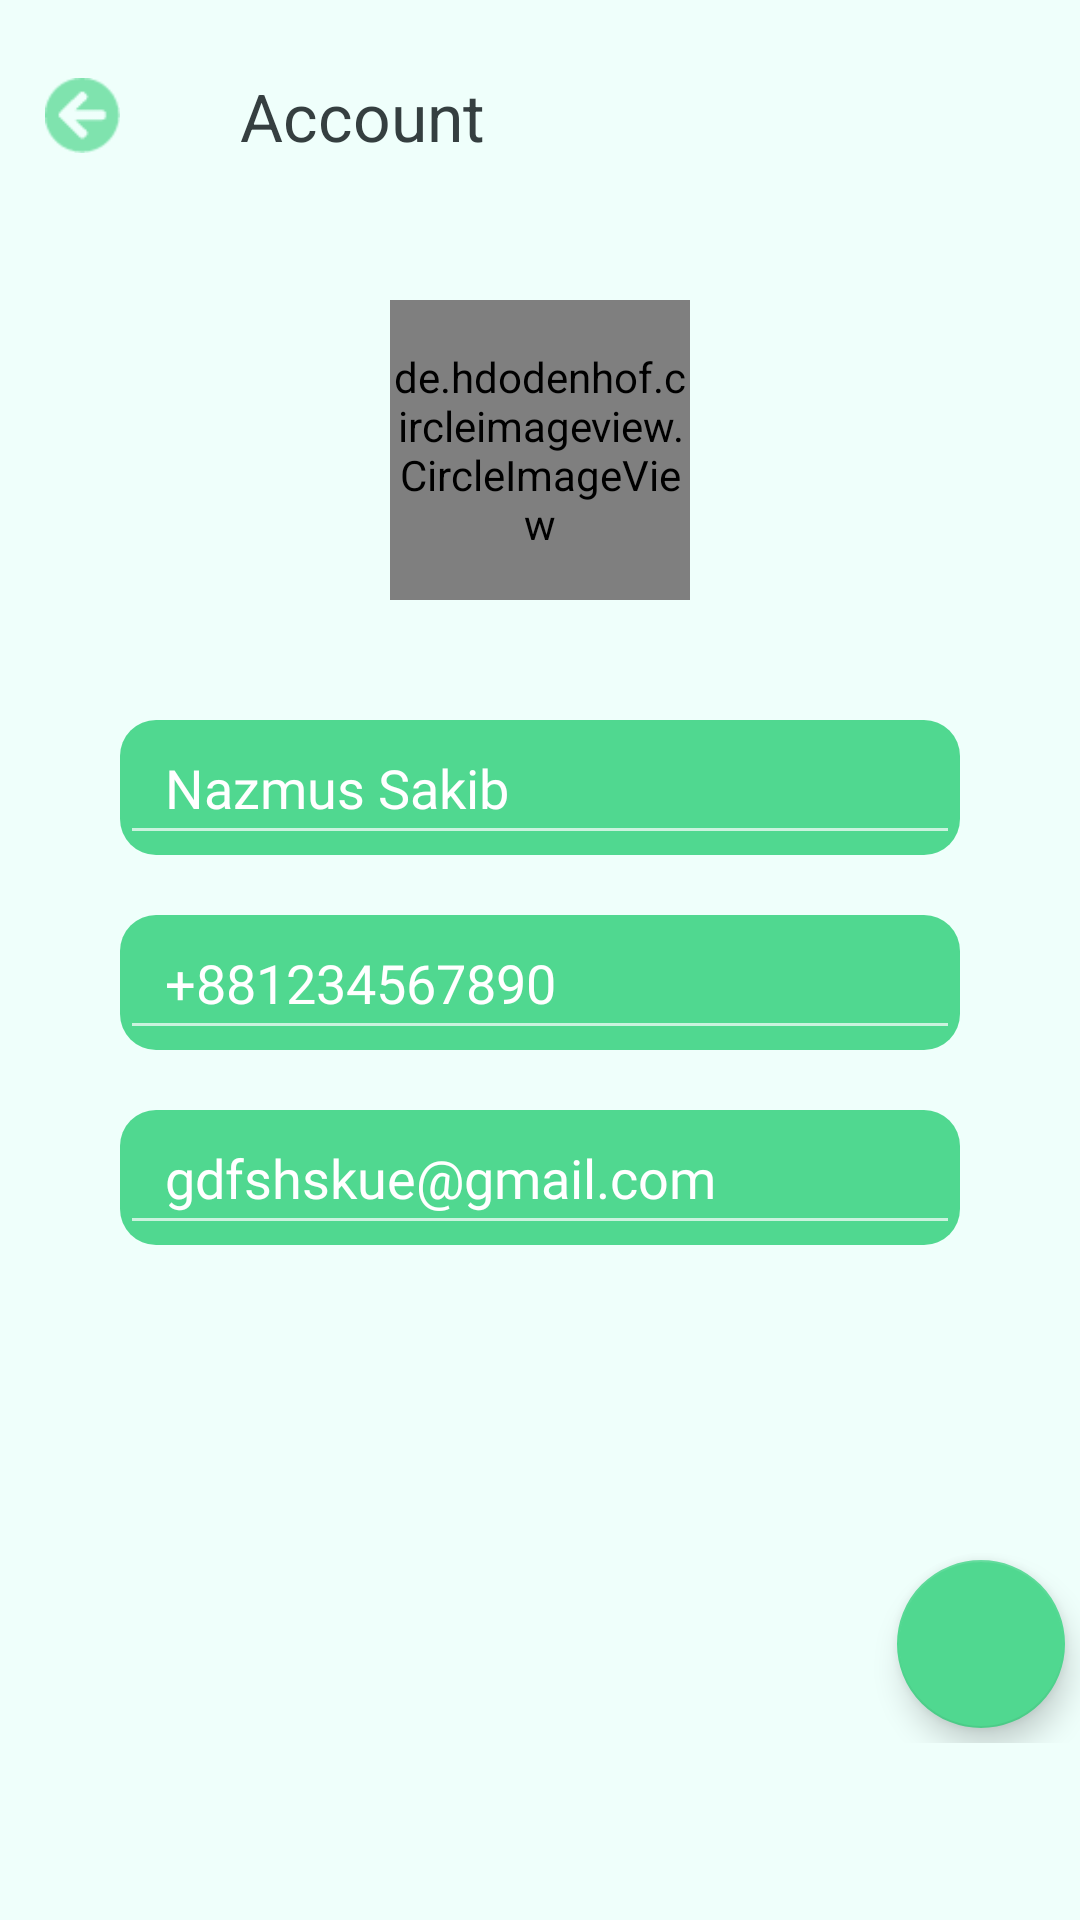

Locate icon controls on the screen. Image size 1080px×1920px, boxes as (x1, y1, x2, y2).
back: (45, 78, 120, 153)
